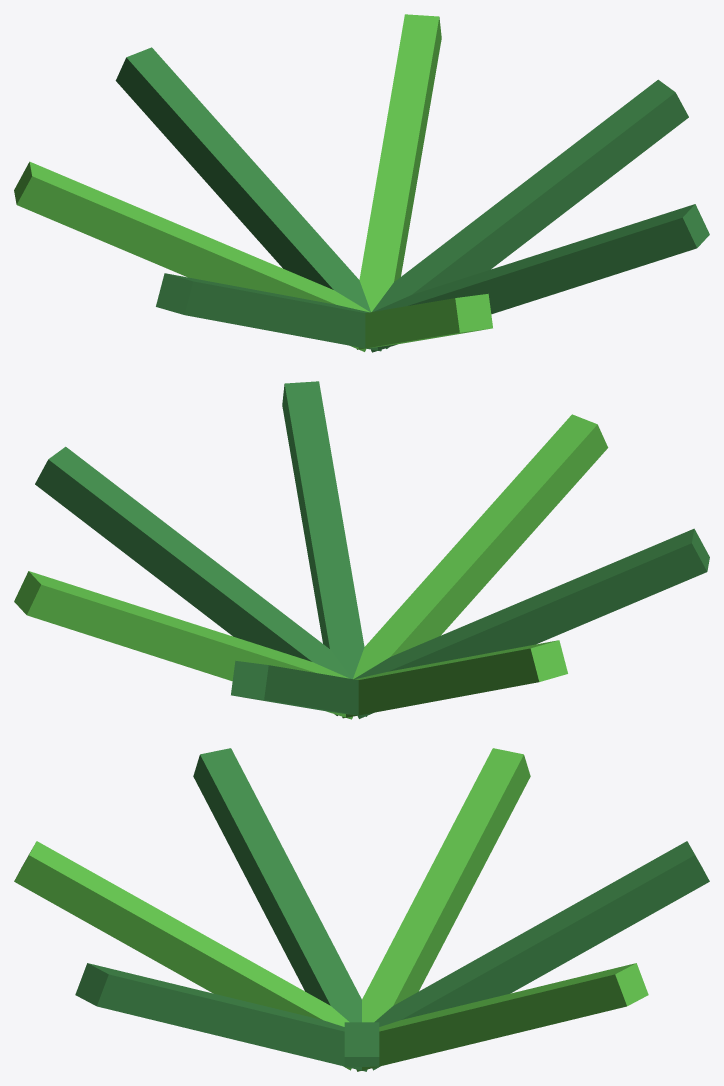
File: fern.glb
3 views of the same model, one above another, from view 1: azimuth 30°, elevation 25°; view 2: azimuth 150°, elevation 25°; view 3: azimuth 270°, elevation 25° (orthographic).
Parts seen in each view (by area): view 1: frond0, frond2, frond3, frond1, frond6, frond4, frond5; view 2: frond0, frond5, frond4, frond6, frond1, frond3, frond2; view 3: frond2, frond5, frond3, frond4, frond1, frond6, frond0.
Boxes of the visible parts, left/top/right/bottom form: frond0: left=372, top=79, right=688, bottom=348; frond2: left=115, top=47, right=370, bottom=312; frond3: left=14, top=161, right=369, bottom=351; frond1: left=359, top=14, right=441, bottom=311; frond6: left=371, top=204, right=709, bottom=352; frond4: left=156, top=273, right=381, bottom=351; frond5: left=357, top=293, right=492, bottom=349; frond0: left=35, top=446, right=351, bottom=715; frond5: left=353, top=414, right=608, bottom=679; frond4: left=354, top=528, right=709, bottom=718; frond6: left=282, top=381, right=364, bottom=678; frond1: left=14, top=571, right=352, bottom=719; frond3: left=342, top=640, right=567, bottom=718; frond2: left=231, top=660, right=366, bottom=716; frond2: left=372, top=841, right=709, bottom=1070; frond5: left=14, top=841, right=351, bottom=1070; frond3: left=362, top=748, right=530, bottom=1022; frond4: left=193, top=748, right=361, bottom=1022; frond1: left=356, top=963, right=648, bottom=1071; frond6: left=75, top=963, right=367, bottom=1071; frond0: left=344, top=1022, right=379, bottom=1067.
Size of the model in its own units: 1.77 by 0.5305 by 1.81.
